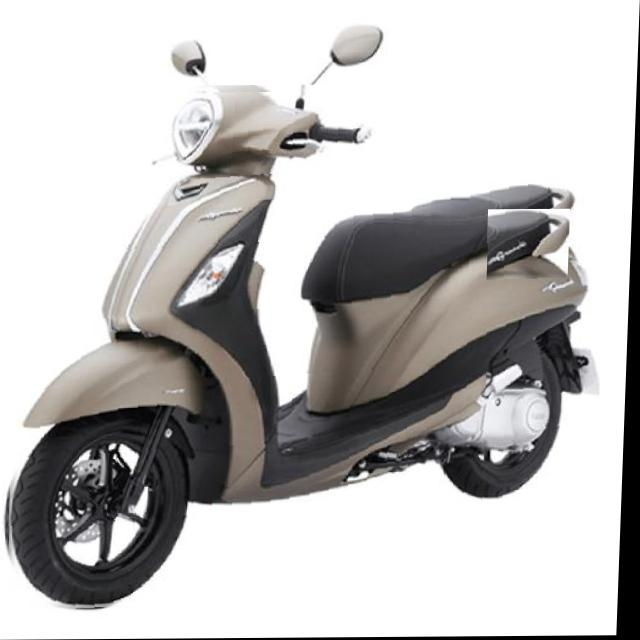All: (4, 83, 612, 613)
Head: (152, 92, 370, 183)
Tail: (488, 210, 572, 281)
